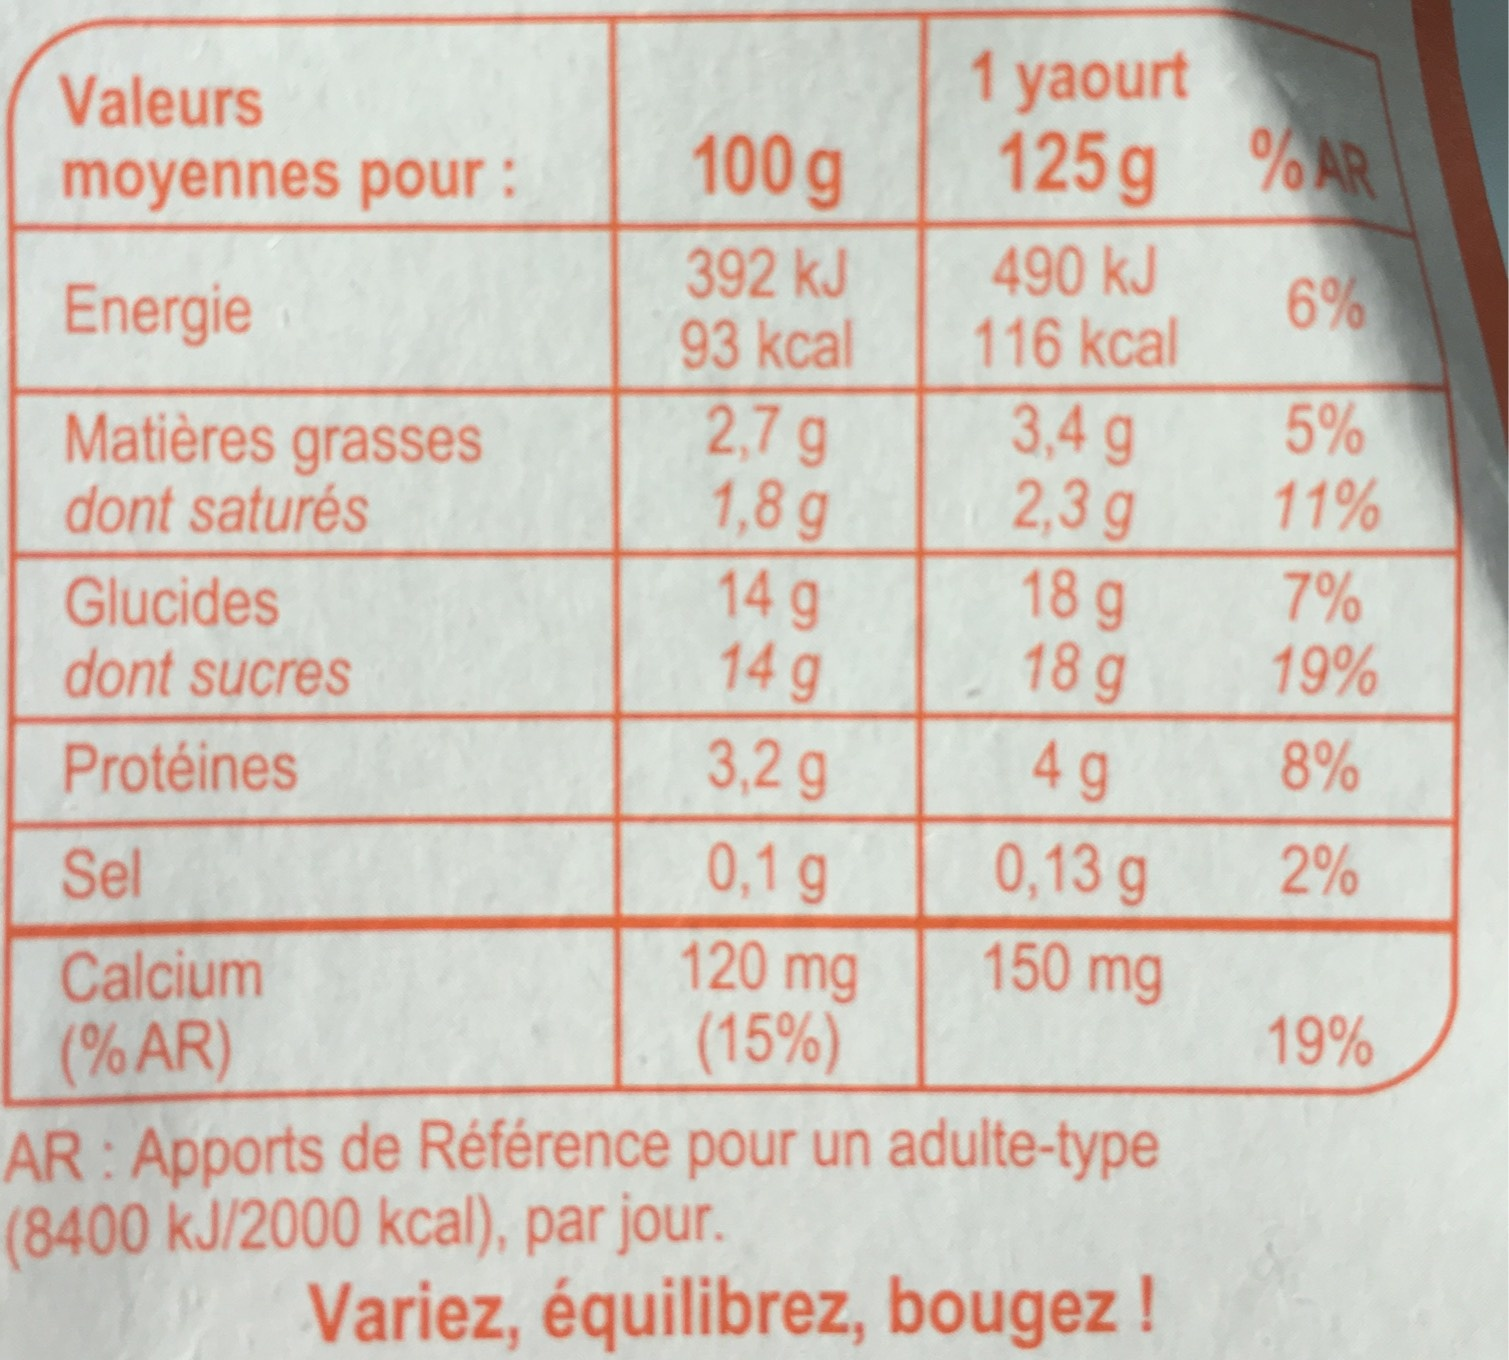column: (55, 70, 526, 1080), (966, 46, 1195, 1079), (678, 134, 862, 1080), (1247, 123, 1401, 1075)
table: (8, 13, 1457, 1112)
